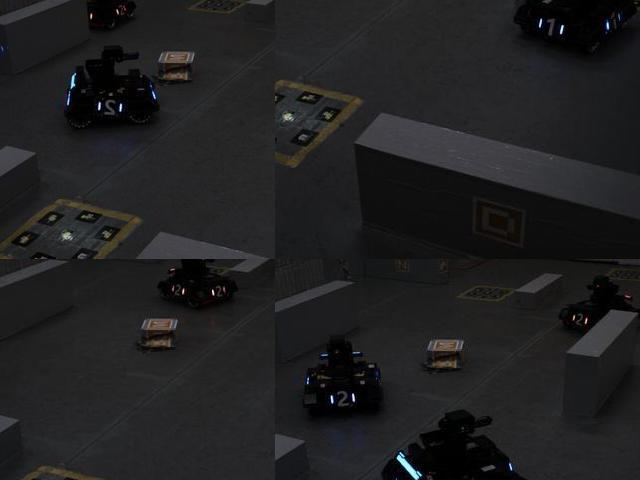armor: (534, 13, 568, 44), (325, 385, 362, 412), (94, 97, 129, 122), (597, 6, 625, 35), (202, 279, 233, 302), (569, 308, 590, 332), (111, 0, 131, 22), (168, 278, 187, 301), (389, 467, 412, 479)
